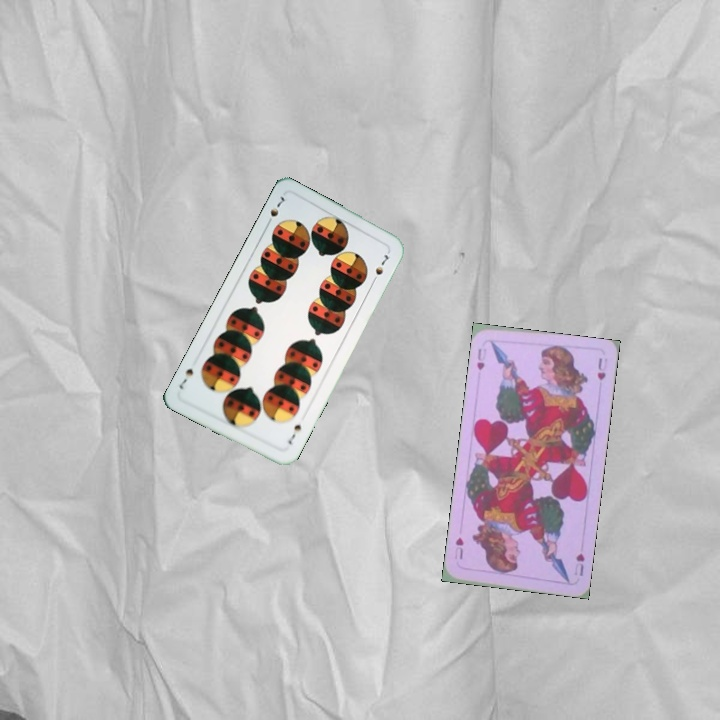HU: (570, 549, 587, 578), (473, 344, 489, 373)
S7: (262, 192, 287, 228), (284, 418, 304, 447)
